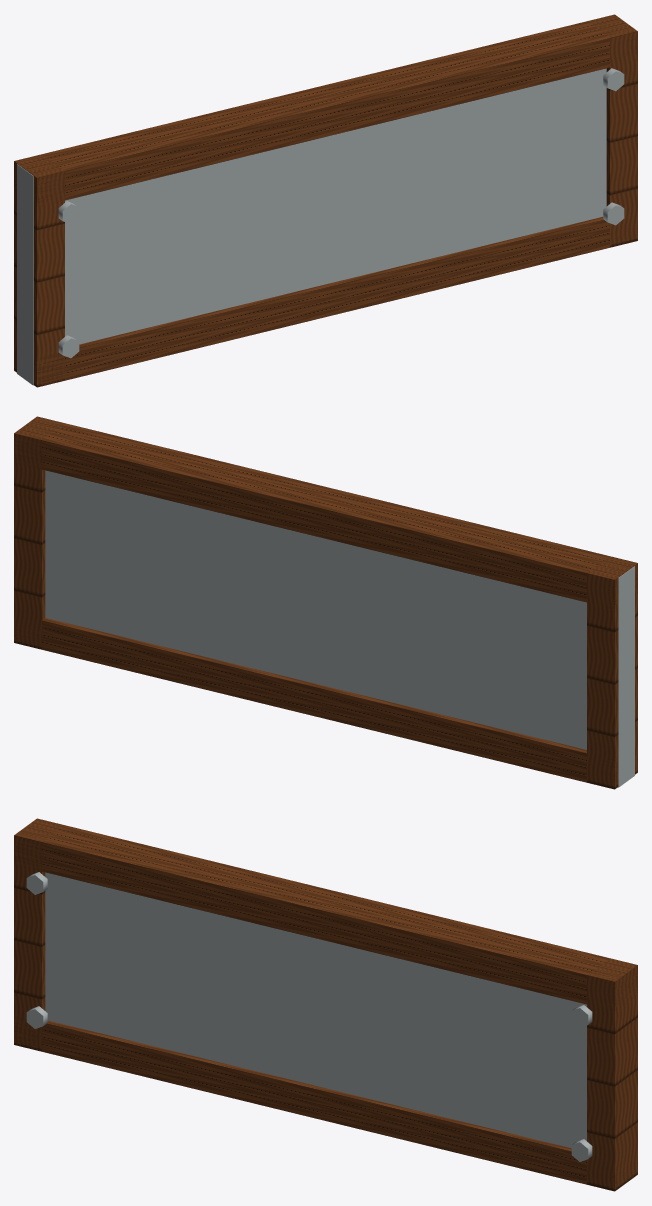
File: roadside-survival-stops-canopy-direction-sign-477acfd9__23543.glb
The picture shows the model from 3 angles, top to bottom: view 1: azimuth 30°, elevation 25°; view 2: azimuth 150°, elevation 25°; view 3: azimuth 330°, elevation 25°; orthographic projection.
Parts seen in each view (by area): view 1: canopy-direction-sign; view 2: canopy-direction-sign; view 3: canopy-direction-sign.
Boxes of the visible parts, <box> form: canopy-direction-sign: <box>14,14,637,387</box>; canopy-direction-sign: <box>14,416,637,789</box>; canopy-direction-sign: <box>14,818,637,1191</box>.
Bounding box in the file's own units: 1.5 × 0.5011 × 0.128.
2 materials, 1 textured.
